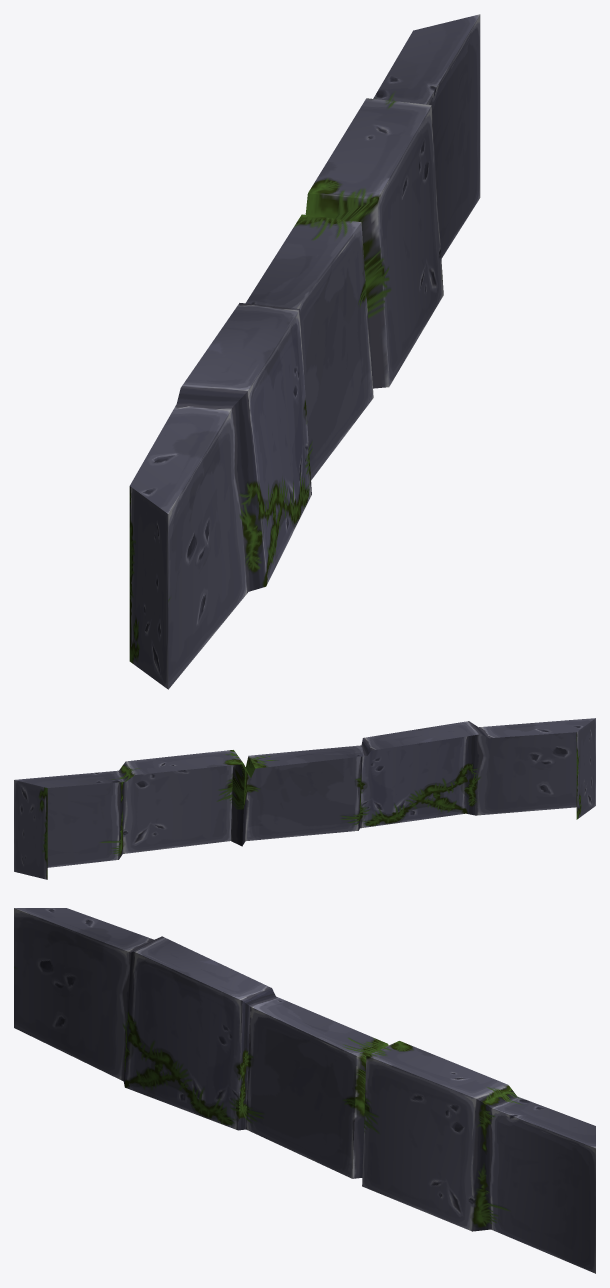
Rendered from MOD_WallTrim_01_O_angle_2.fbx.
3 views of the same model, one above another, from view 1: azimuth 30°, elevation 25°; view 2: azimuth 150°, elevation 25°; view 3: azimuth 270°, elevation 25° (orthographic). The views are drawn at different scales.
Parts seen in each view (by area): view 1: MOD_WallTrim_01_O_angle_2; view 2: MOD_WallTrim_01_O_angle_2; view 3: MOD_WallTrim_01_O_angle_2.
Boxes of the visible parts, box(x1,y1,x2,y2) form: MOD_WallTrim_01_O_angle_2: box(129, 14, 480, 689); MOD_WallTrim_01_O_angle_2: box(14, 718, 595, 879); MOD_WallTrim_01_O_angle_2: box(14, 908, 595, 1273).
Bounding box in the file's own units: 220 × 55.01 × 220.
